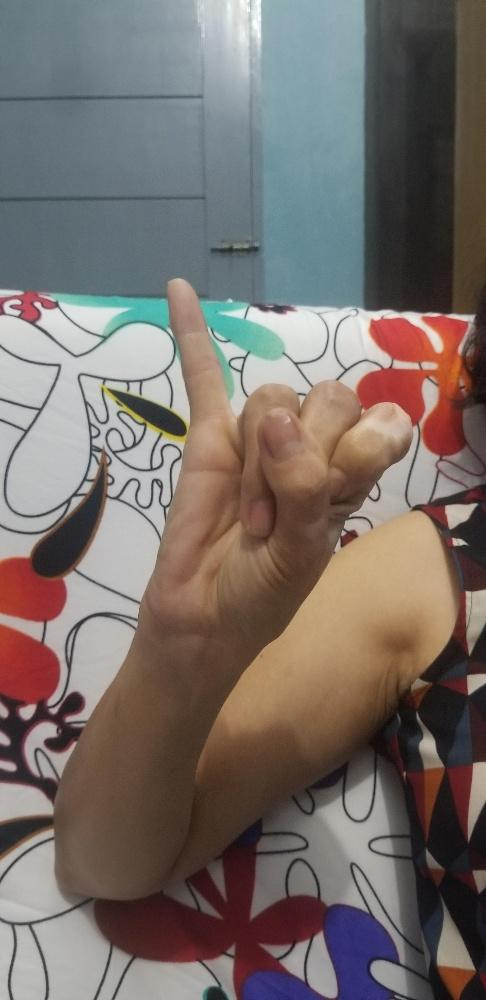i: (138, 275, 414, 640)
